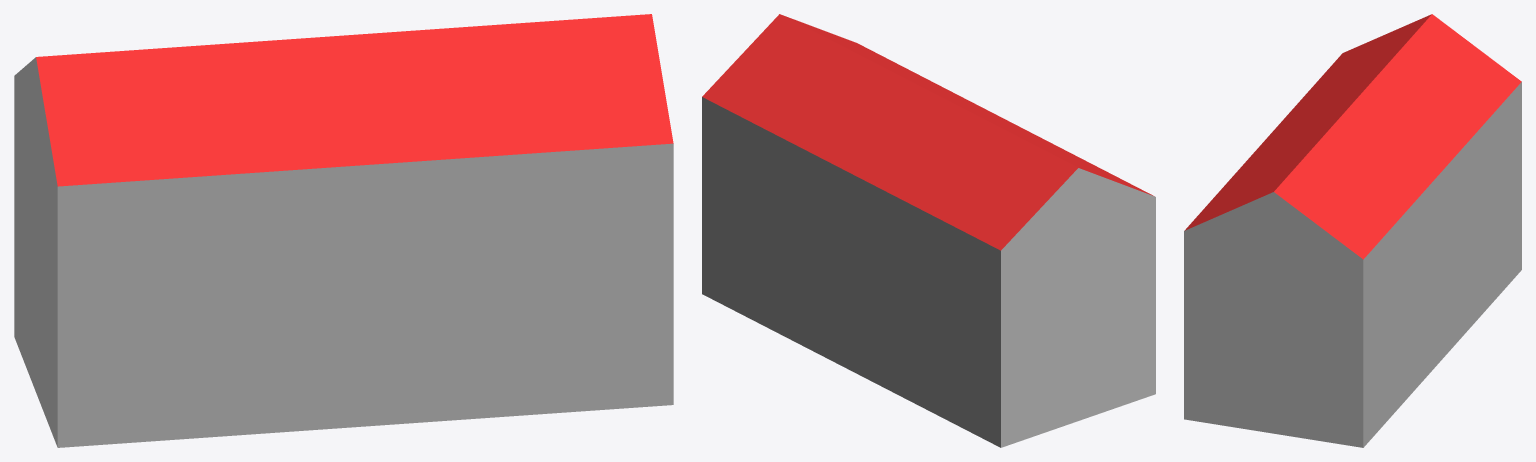
Rendered from pb-96359a11-7f36-11f0-b4ad-9c7bef4dcf4c.dae.
The picture shows the model from 3 angles, left to right: view 1: azimuth 30°, elevation 25°; view 2: azimuth 150°, elevation 25°; view 3: azimuth 270°, elevation 25°; orthographic projection. The views are drawn at different scales.
Bounding box in the file's own units: 33.14 × 22.91 × 18.1.
